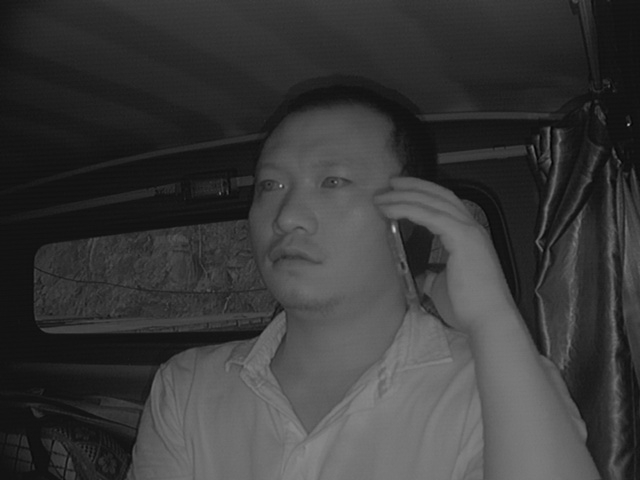hand: (379, 169, 494, 324)
